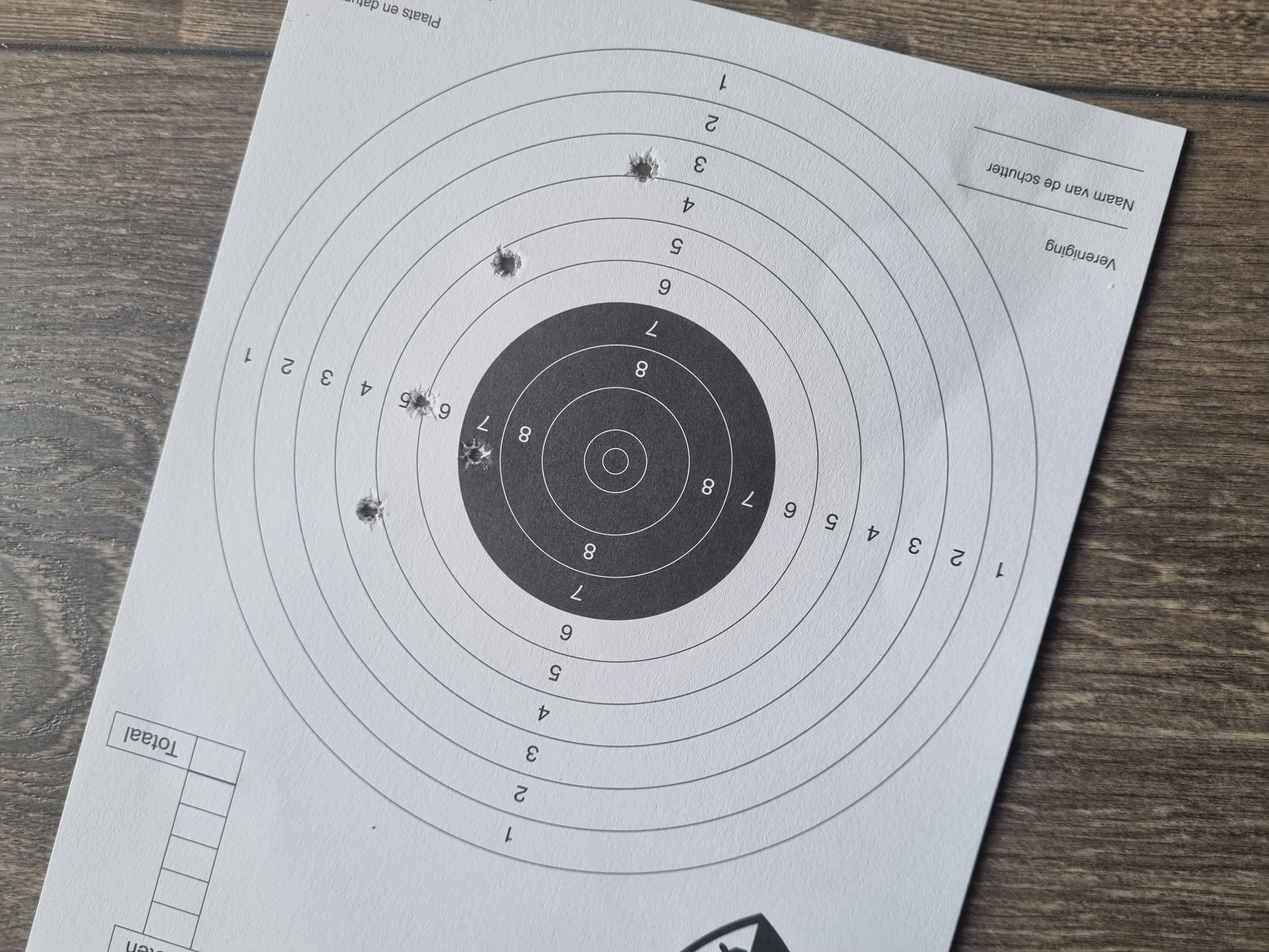hole: (560, 266, 618, 289), (708, 305, 753, 331), (1024, 468, 1067, 495), (895, 368, 942, 392), (642, 346, 687, 369)
